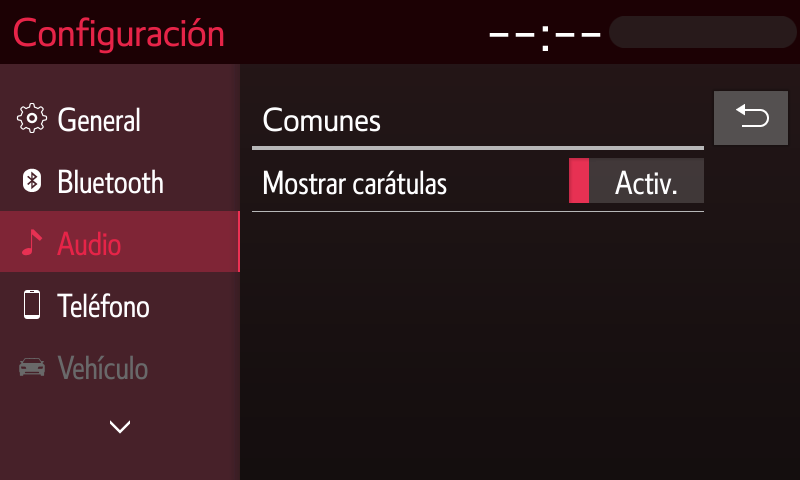touchPart: (246, 142, 709, 214), (15, 92, 158, 139), (707, 84, 793, 153), (17, 283, 159, 323), (13, 161, 166, 197), (92, 404, 154, 443)
untouchPart: (1, 206, 242, 273), (482, 9, 796, 50), (11, 12, 230, 50), (13, 350, 173, 387)
